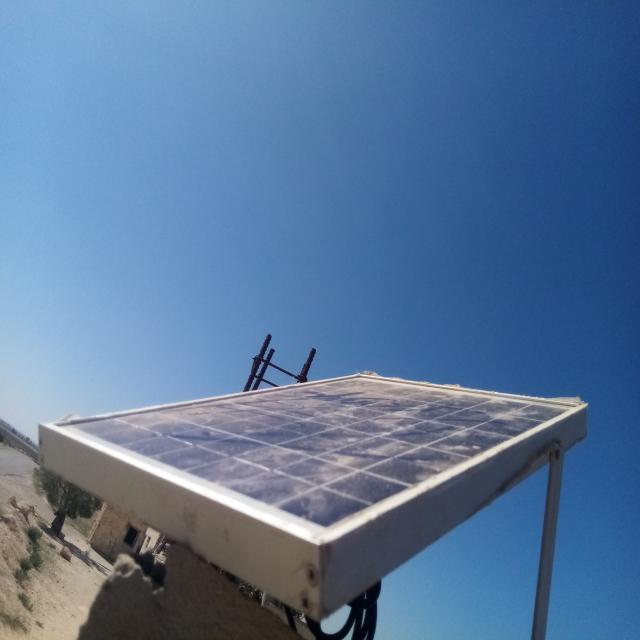faulty: (48, 373, 578, 546)
